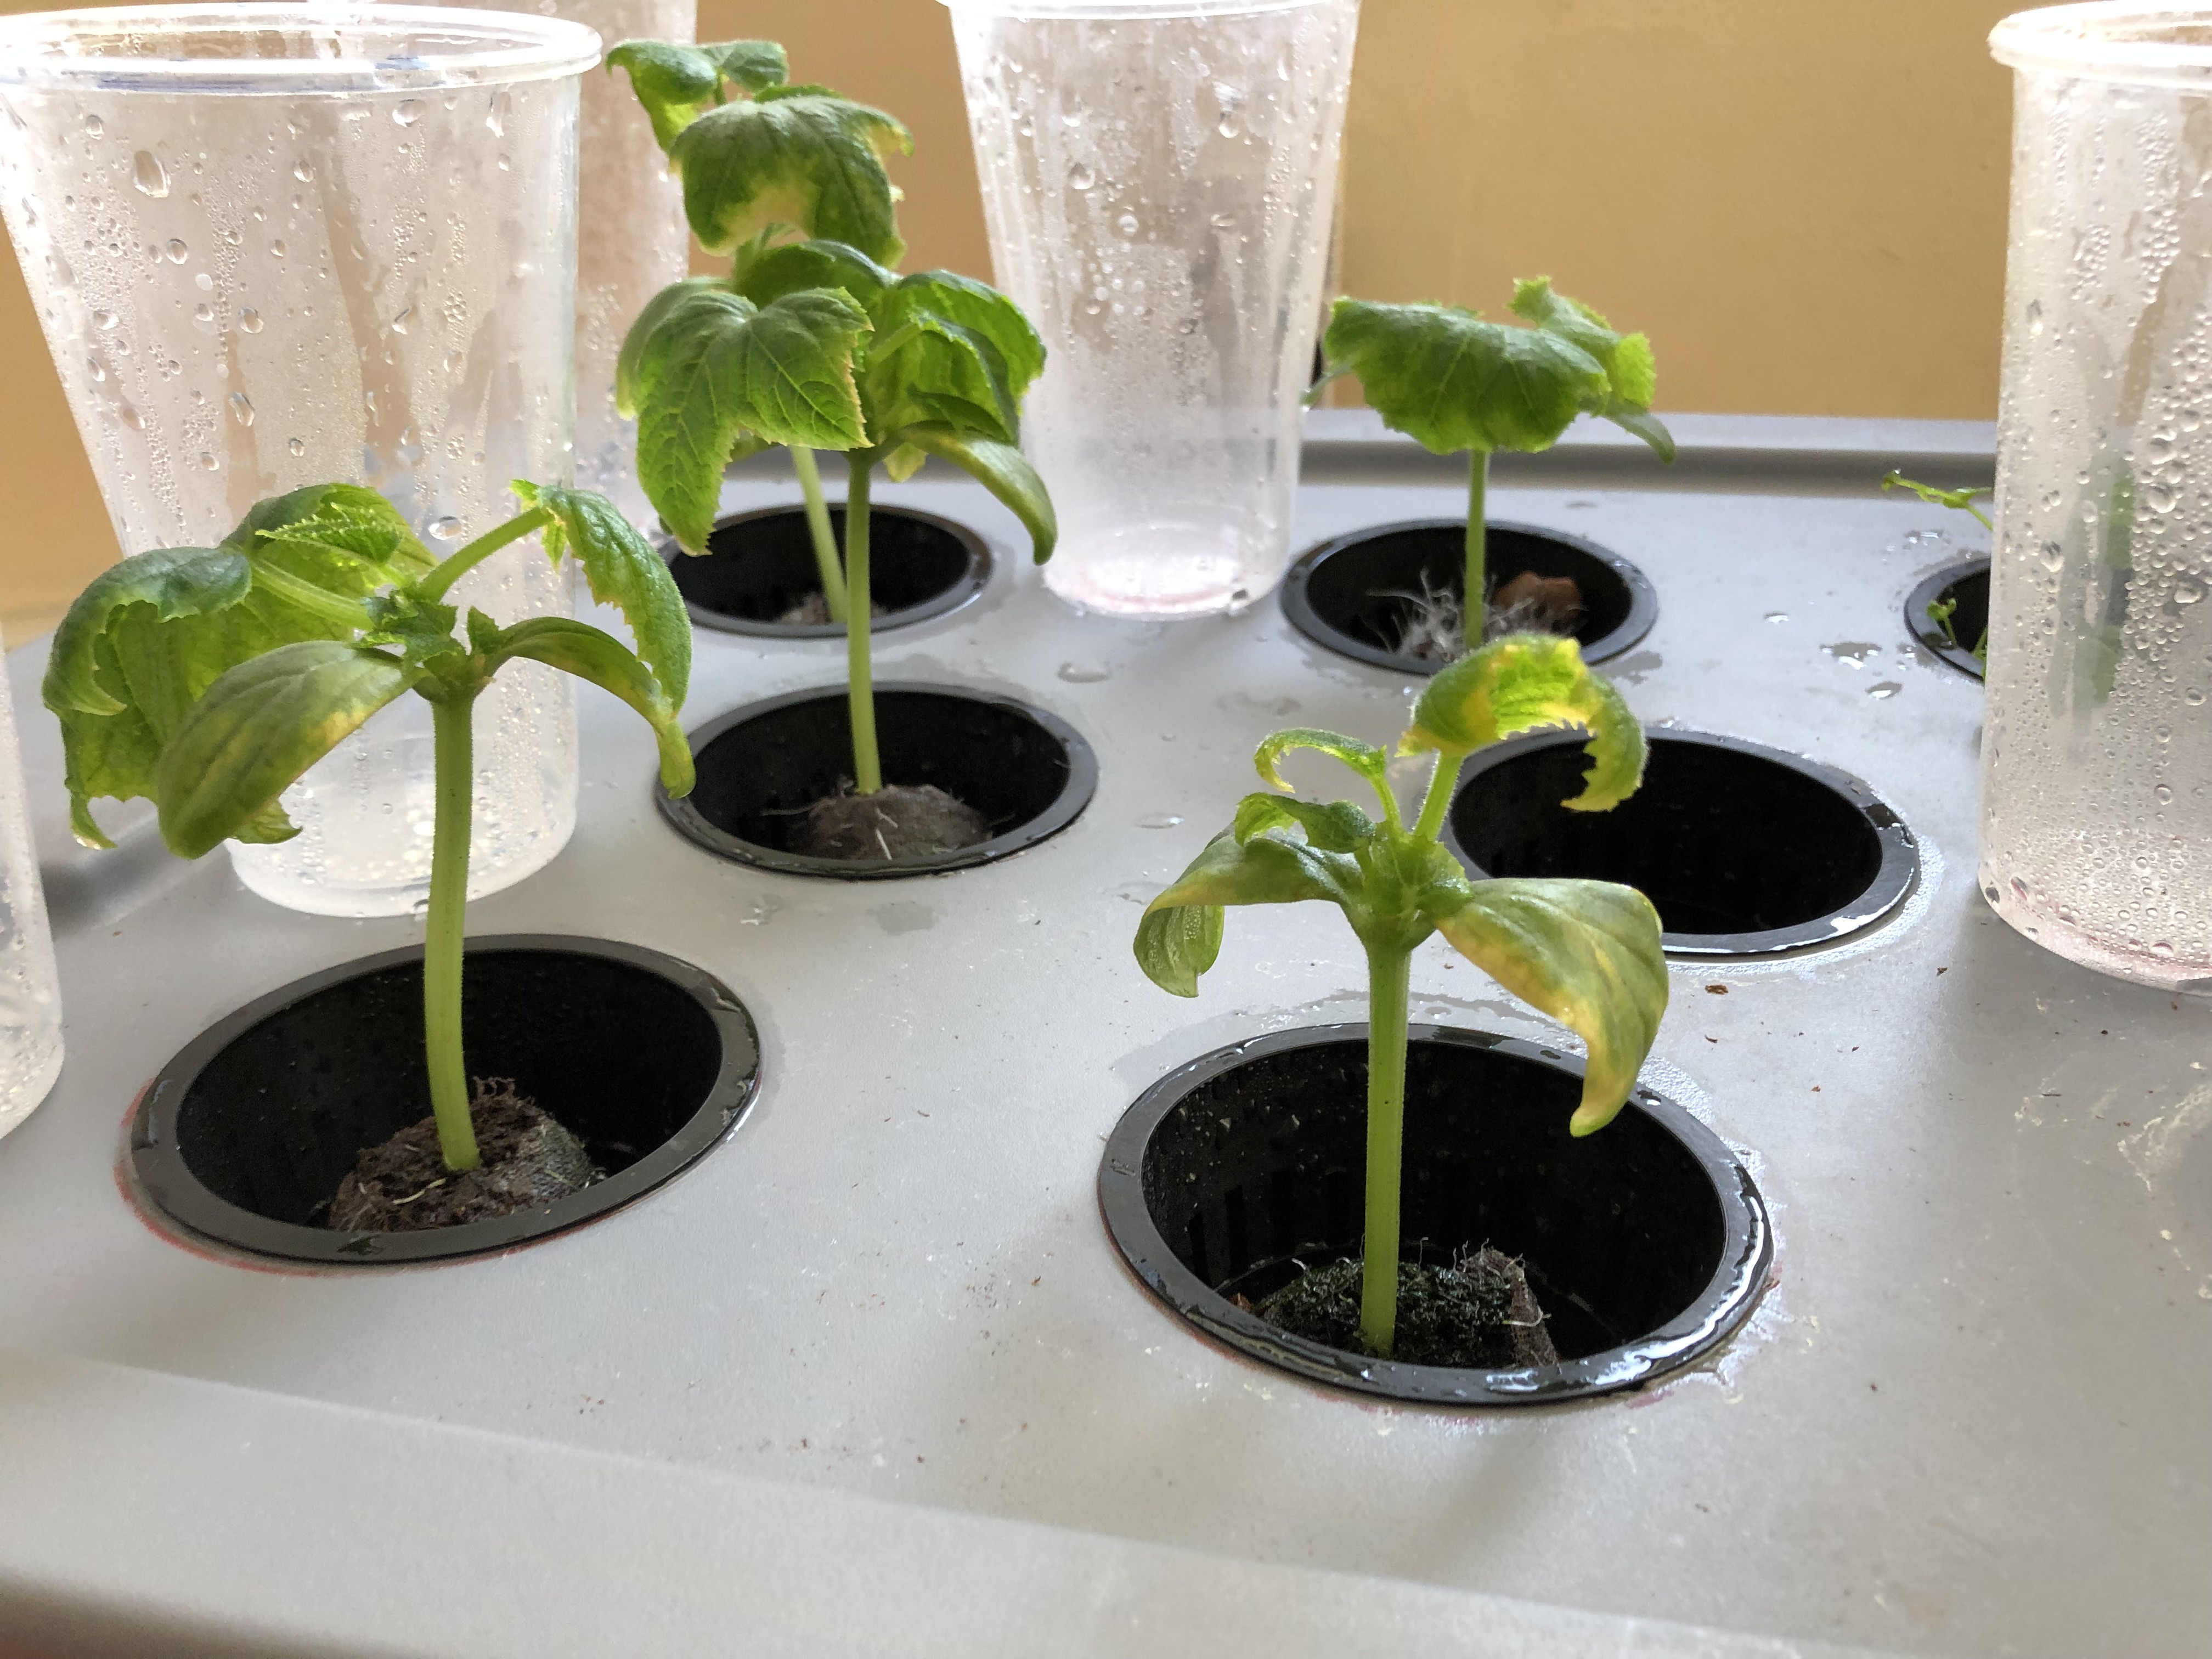cup: (1019, 997, 1839, 1441), (108, 882, 841, 1319), (1385, 704, 1918, 993), (634, 659, 1160, 936), (620, 472, 1068, 659), (1287, 530, 1705, 695)
lil_plant: (101, 467, 686, 1119), (611, 232, 1001, 859), (1332, 225, 1595, 598)
